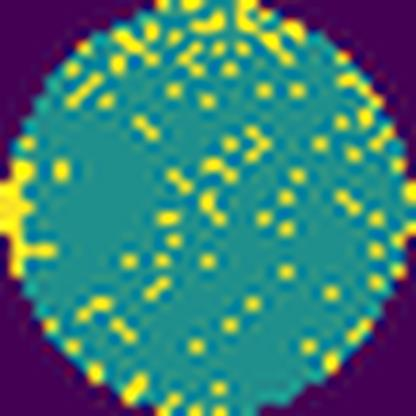Edge-Loc: (0, 153, 63, 287)
